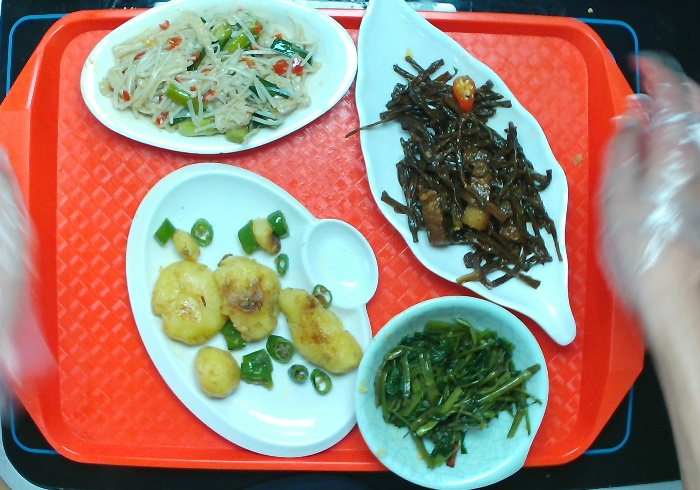RJxy-Bai_Se_Tuo_Yuan: (76, 1, 363, 149)
RJxy-Shu_Ye_Pan: (357, 1, 578, 347)
RJxy-Xiao_Jiao_Yuan_Wan: (352, 298, 558, 490)
RJxy-Zhan_Liao_Pan: (123, 161, 383, 461)
